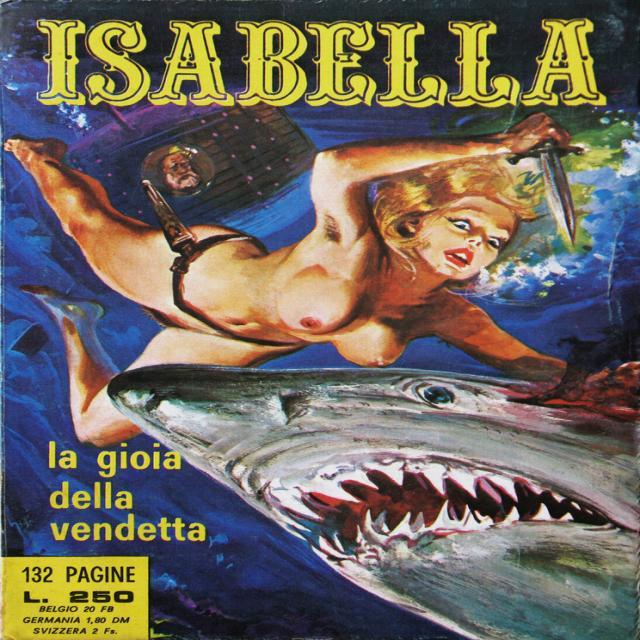Shark: (103, 333, 640, 639)
